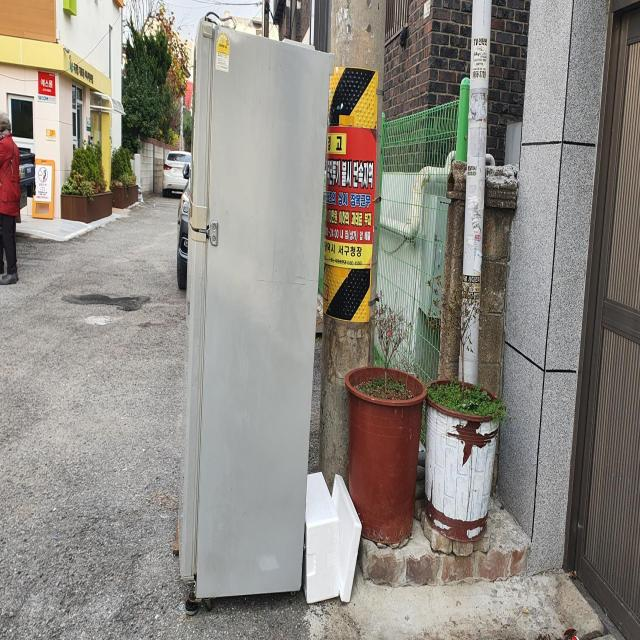refrigerator: (175, 16, 336, 617)
